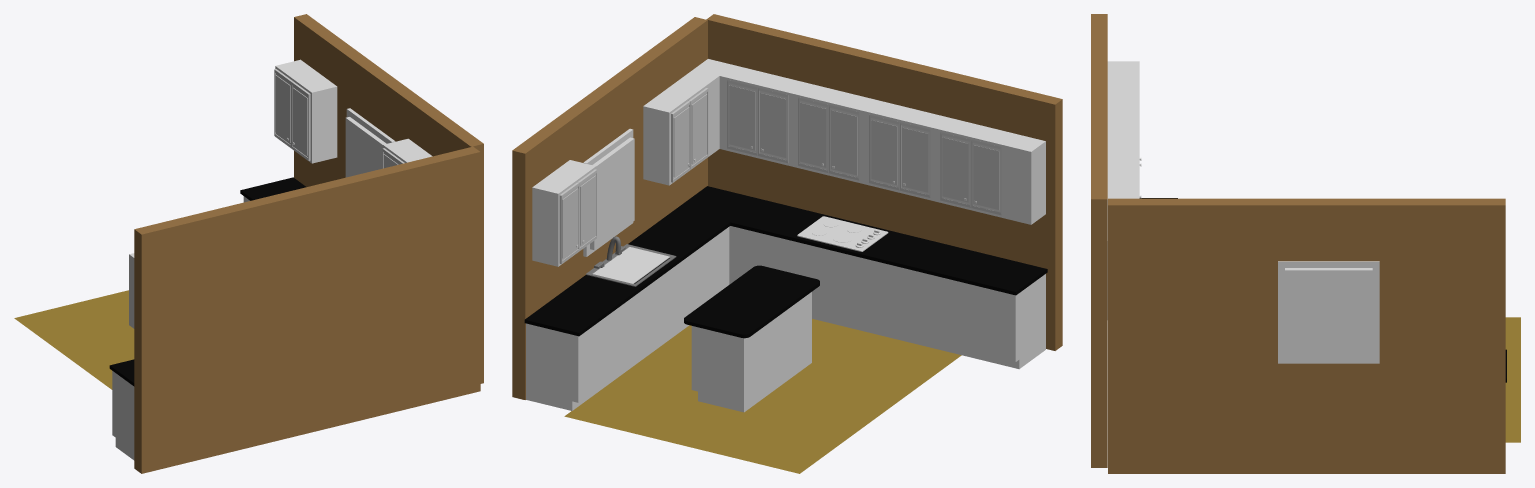
Rendered from Kitchen Ver01.fbx.
3 views of the same model, side by side, from view 1: azimuth 30°, elevation 25°; view 2: azimuth 150°, elevation 25°; view 3: azimuth 270°, elevation 25° (orthographic). The views are drawn at different scales.
Parts seen in each view (by area): view 1: Cube.012, Cube.011, Plane, Cube.013, Cube.014, Cube.003, Cube.023, Cube.022, Cube.004, Cube.015; view 2: Cube.012, Plane, Cube.011, Cube.003, Cube.016, Cube.002, Cube.004, Cube.005, Cube, Cube.001, Cube.015, Cube.014 (+18 smaller); view 3: Cube.011, Cube.014, Cube.012, Cube.016, Cube.017, Plane.
Part boxes in pixels (<box>): Cube.012: <box>134,146,480,473</box>; Cube.011: <box>294,14,483,383</box>; Plane: <box>14,290,134,389</box>; Cube.013: <box>275,59,337,163</box>; Cube.014: <box>345,117,386,177</box>; Cube.003: <box>112,371,134,460</box>; Cube.023: <box>291,81,310,160</box>; Cube.022: <box>274,69,293,148</box>; Cube.004: <box>240,177,306,200</box>; Cube.015: <box>383,138,432,162</box>; Cube.012: <box>706,14,1062,350</box>; Plane: <box>564,319,961,473</box>; Cube.011: <box>512,17,707,399</box>; Cube.003: <box>729,226,1045,369</box>; Cube.016: <box>719,65,1045,224</box>; Cube.002: <box>526,227,729,410</box>; Cube.004: <box>524,186,761,336</box>; Cube.005: <box>730,199,1047,295</box>; Cube: <box>691,292,811,412</box>; Cube.001: <box>684,265,819,338</box>; Cube.015: <box>643,59,733,185</box>; Cube.014: <box>590,137,634,249</box>; Cube.011: <box>1108,198,1505,473</box>; Cube.014: <box>1285,268,1372,359</box>; Cube.012: <box>1091,14,1107,467</box>; Cube.016: <box>1107,61,1139,319</box>; Cube.017: <box>1278,261,1379,363</box>; Plane: <box>1505,317,1520,442</box>.
Size of the model in its own units: 4256 by 3048 by 3978.
